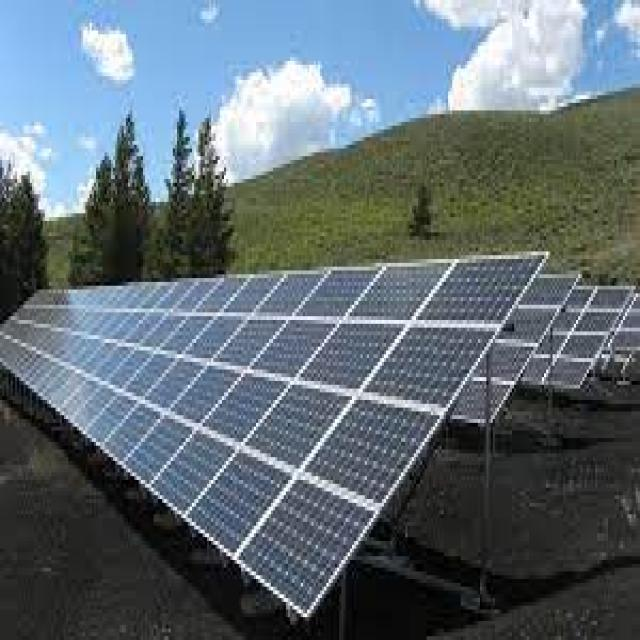clean-solar-panel: (0, 253, 640, 612)
